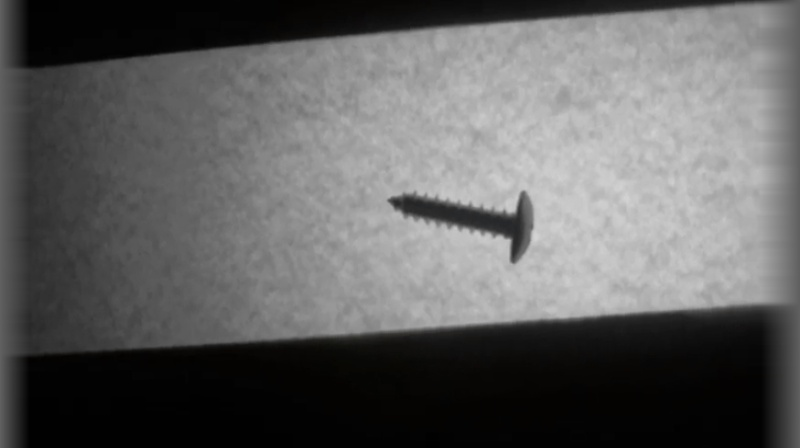S003: (385, 186, 537, 266)
